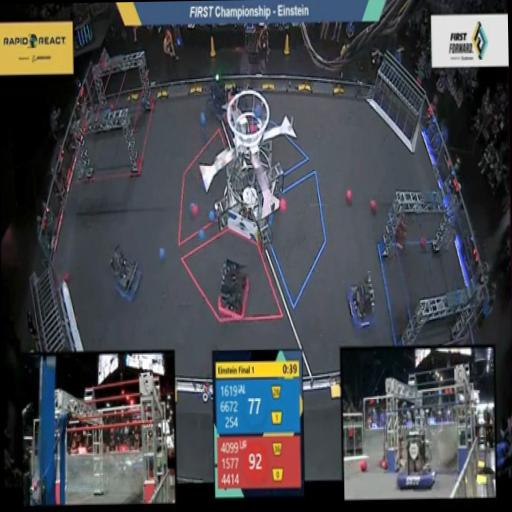robot: (215, 256, 254, 322), (345, 269, 381, 331), (107, 242, 144, 302)
